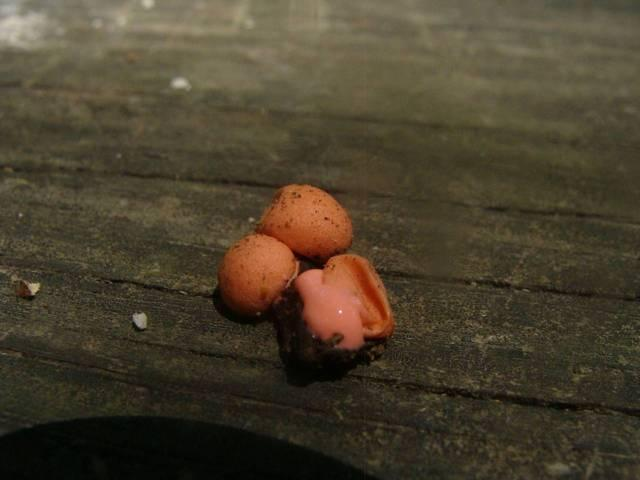Non-edible Mushroom: (216, 181, 396, 374), (274, 252, 395, 373), (255, 182, 353, 260), (216, 232, 299, 317)
